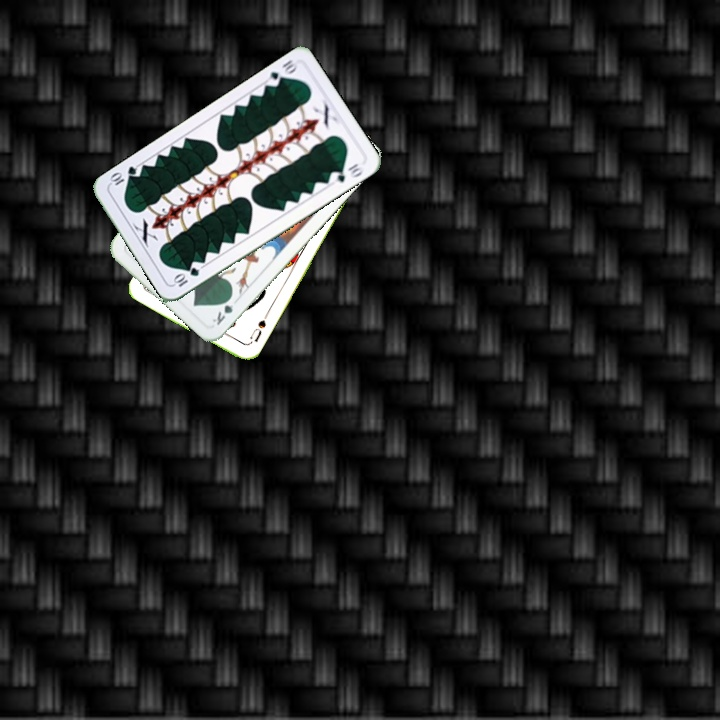G10: (262, 55, 301, 90), (169, 263, 202, 290)
GK: (208, 291, 236, 328)
SU: (244, 316, 269, 348)
